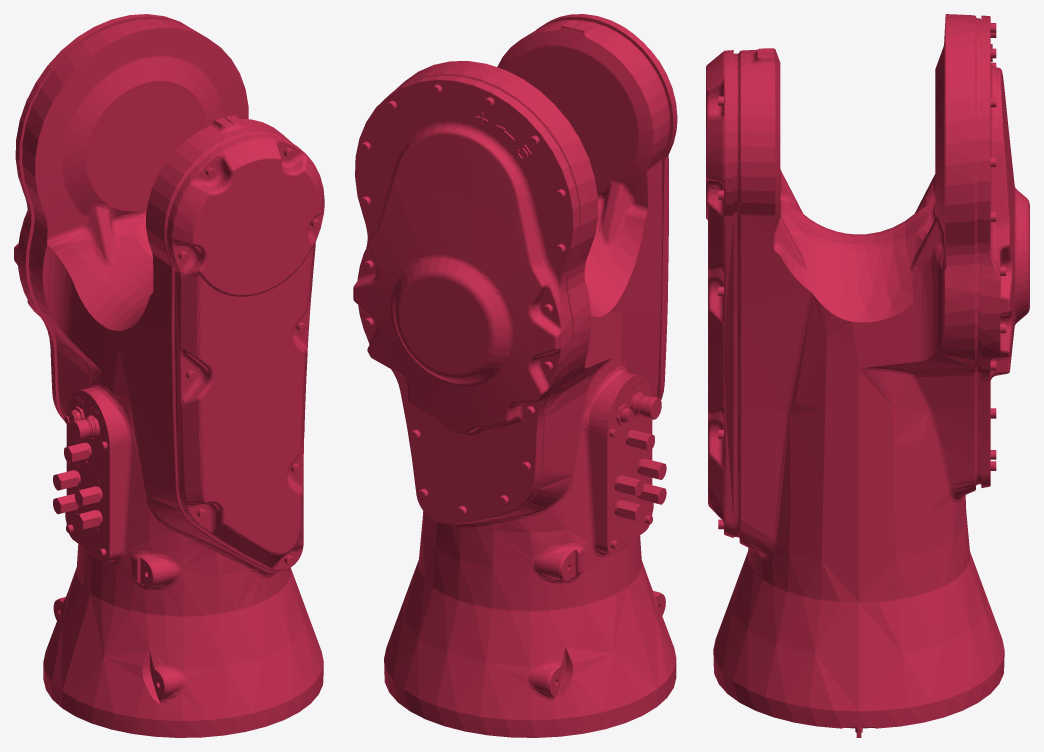
The picture shows the model from 3 angles, left to right: view 1: azimuth 30°, elevation 25°; view 2: azimuth 150°, elevation 25°; view 3: azimuth 270°, elevation 25°; orthographic projection. The views are drawn at different scales.
Parts seen in each view (by area): view 1: node0; view 2: node0; view 3: node0.
Part boxes in pixels (x1,y1,x2,y2): node0: [14, 14, 324, 737]; node0: [353, 14, 677, 737]; node0: [706, 14, 1029, 737].
Bounding box in the file's own units: 0.3 × 0.3335 × 0.7546.
